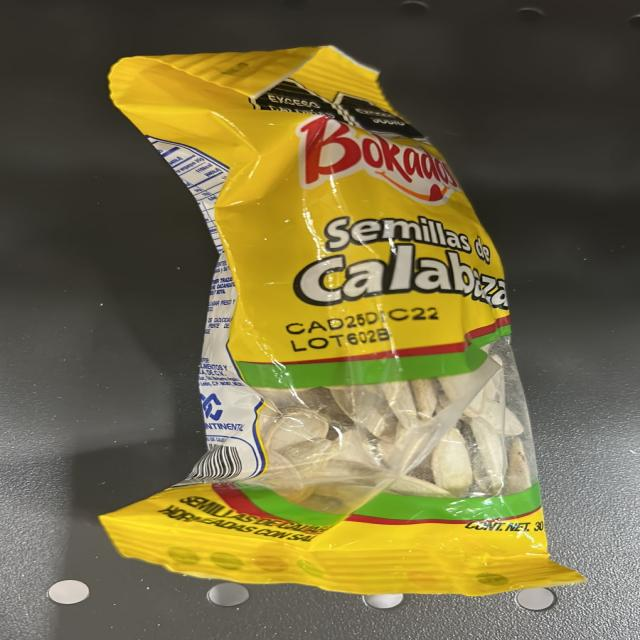semillasCalabaza: (193, 48, 515, 590)
